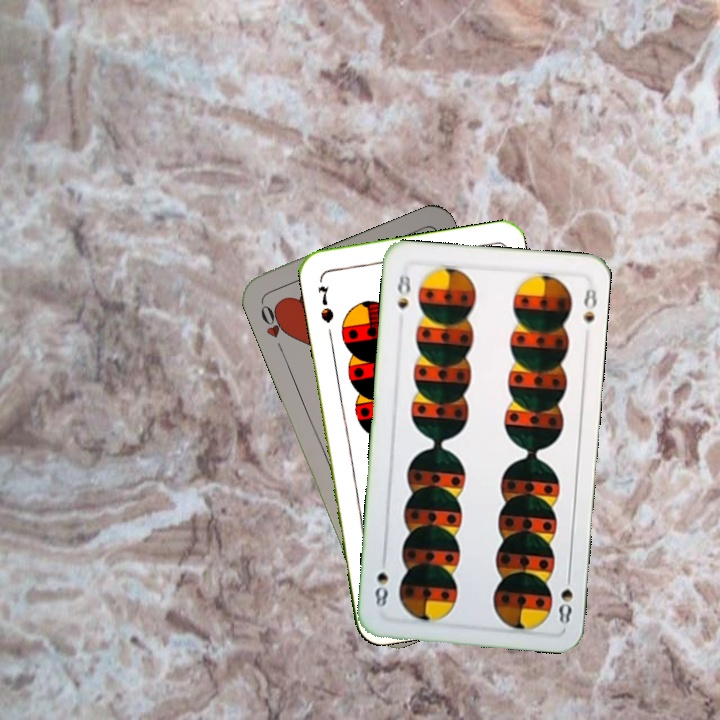HO: (256, 300, 291, 356)
S7: (313, 281, 336, 326)
S8: (555, 568, 575, 627), (393, 270, 414, 311)
